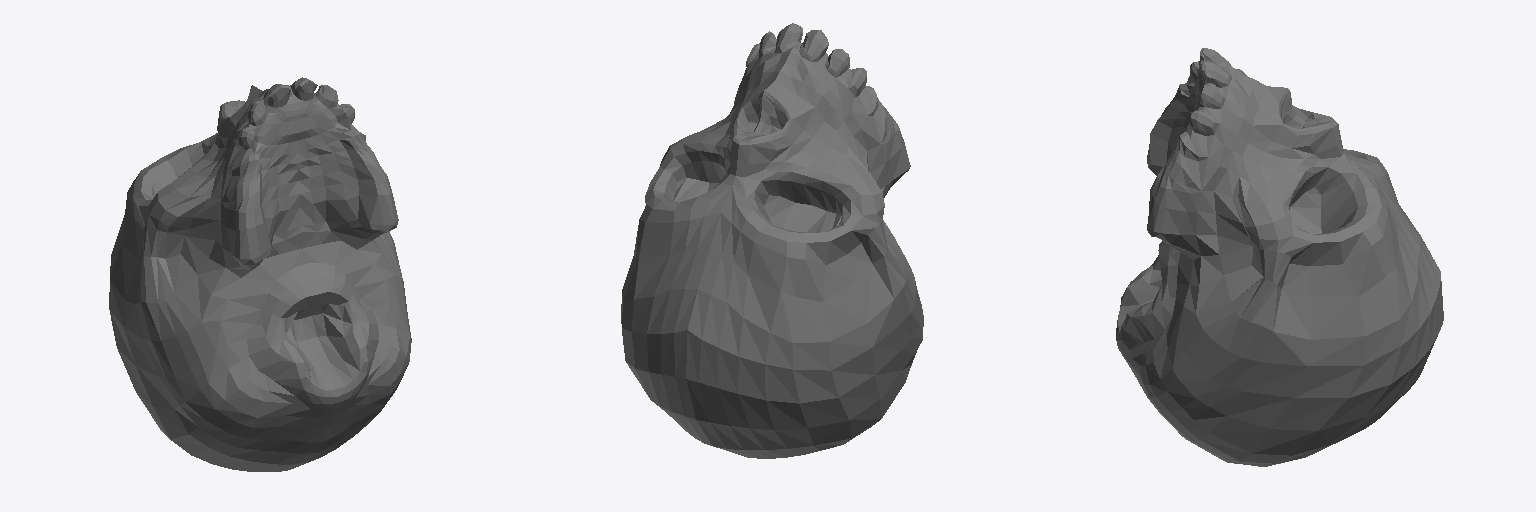
The model's file is skull.obj.
The picture shows the model from 3 angles: view 1: azimuth 30°, elevation 25°; view 2: azimuth 150°, elevation 25°; view 3: azimuth 270°, elevation 25°; orthographic projection.
Parts seen in each view (by area): view 1: Craneo_craneo_malla; view 2: Craneo_craneo_malla; view 3: Craneo_craneo_malla.
Boxes of the visible parts, box(x1,y1,x2,y2) form: Craneo_craneo_malla: box(109, 77, 411, 471); Craneo_craneo_malla: box(621, 23, 923, 458); Craneo_craneo_malla: box(1116, 48, 1443, 466).
Bounding box in the file's own units: 1.04 × 1.6 × 1.18.